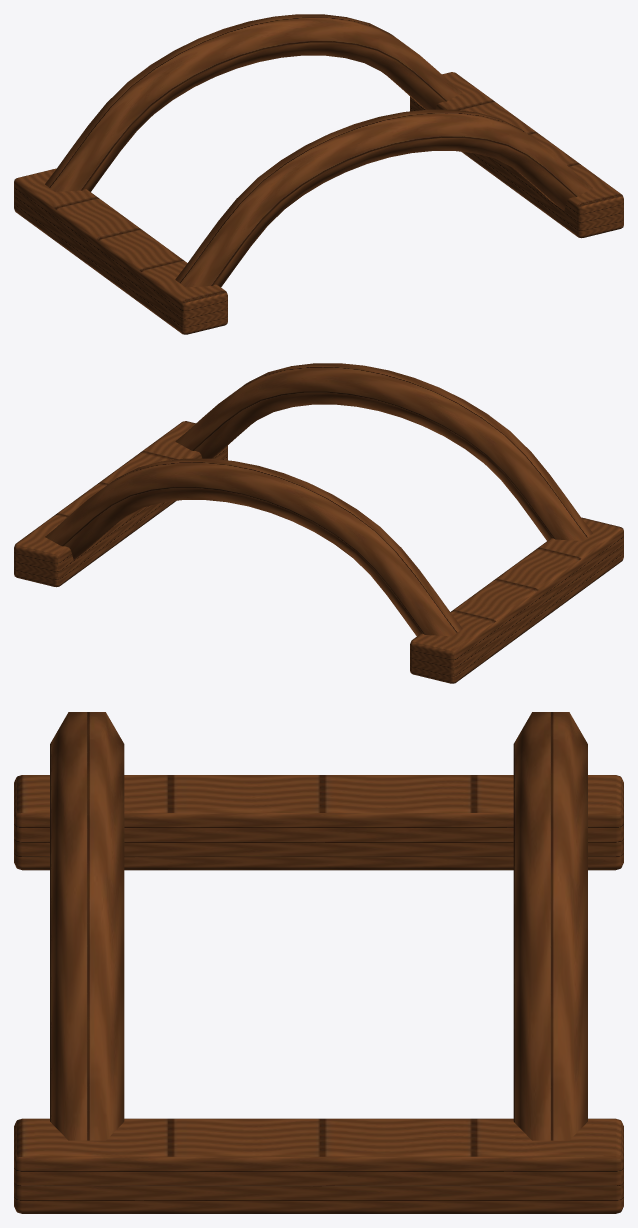
Rendered from creature-husbandry-and-transport-saddle-tree-ff9d3606__24013.glb.
The picture shows the model from 3 angles, top to bottom: view 1: azimuth 30°, elevation 25°; view 2: azimuth 150°, elevation 25°; view 3: azimuth 270°, elevation 25°; orthographic projection. The views are drawn at different scales.
Parts seen in each view (by area): view 1: saddle-tree; view 2: saddle-tree; view 3: saddle-tree.
Part boxes in pixels (bbox=[...]): saddle-tree: bbox=[14, 14, 623, 334]; saddle-tree: bbox=[14, 363, 623, 683]; saddle-tree: bbox=[14, 712, 623, 1213].
Bounding box in the file's own units: 1.34 × 0.4276 × 0.8999.
Materials: 1 (1 with a texture image).
